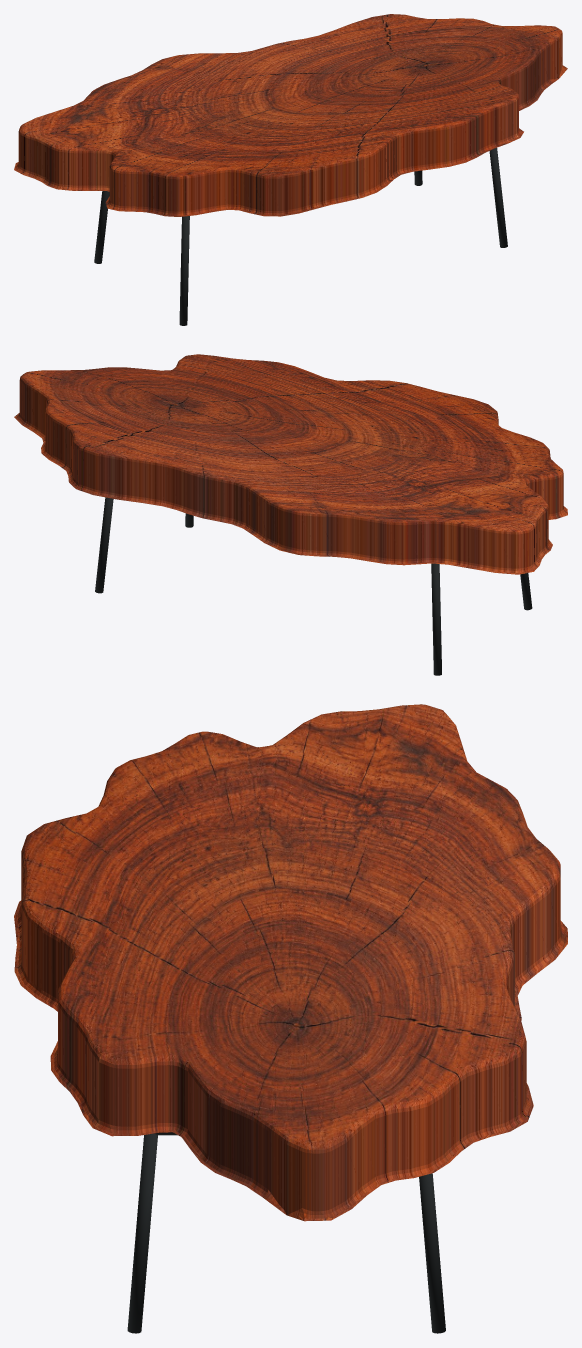
Rendered from enchi_live_edge_low.glb.
3 views of the same model, one above another, from view 1: azimuth 30°, elevation 25°; view 2: azimuth 150°, elevation 25°; view 3: azimuth 270°, elevation 25° (orthographic). The views are drawn at different scales.
Parts seen in each view (by area): view 1: ENCHI / live-edge end-grain cross-section slab, ENCHI / slender black steel low leg, ENCHI / slender black steel low leg.002, ENCHI / slender black steel low leg.001; view 2: ENCHI / live-edge end-grain cross-section slab, ENCHI / slender black steel low leg.001, ENCHI / slender black steel low leg.003; view 3: ENCHI / live-edge end-grain cross-section slab, ENCHI / slender black steel low leg.002, ENCHI / slender black steel low leg.003.
Part boxes in pixels (x1,y1,x2,y2): ENCHI / live-edge end-grain cross-section slab: (14,14,567,216); ENCHI / slender black steel low leg: (179,216,189,325); ENCHI / slender black steel low leg.002: (489,148,507,247); ENCHI / slender black steel low leg.001: (94,191,109,263); ENCHI / live-edge end-grain cross-section slab: (14,354,567,574); ENCHI / slender black steel low leg.001: (431,563,441,675); ENCHI / slender black steel low leg.003: (95,497,113,593); ENCHI / live-edge end-grain cross-section slab: (14,704,567,1221); ENCHI / slender black steel low leg.002: (127,1133,157,1333); ENCHI / slender black steel low leg.003: (419,1173,445,1333).
Size of the model in its own units: 1.19 by 0.3418 by 0.6167.
Materials: 2 (1 with a texture image).
